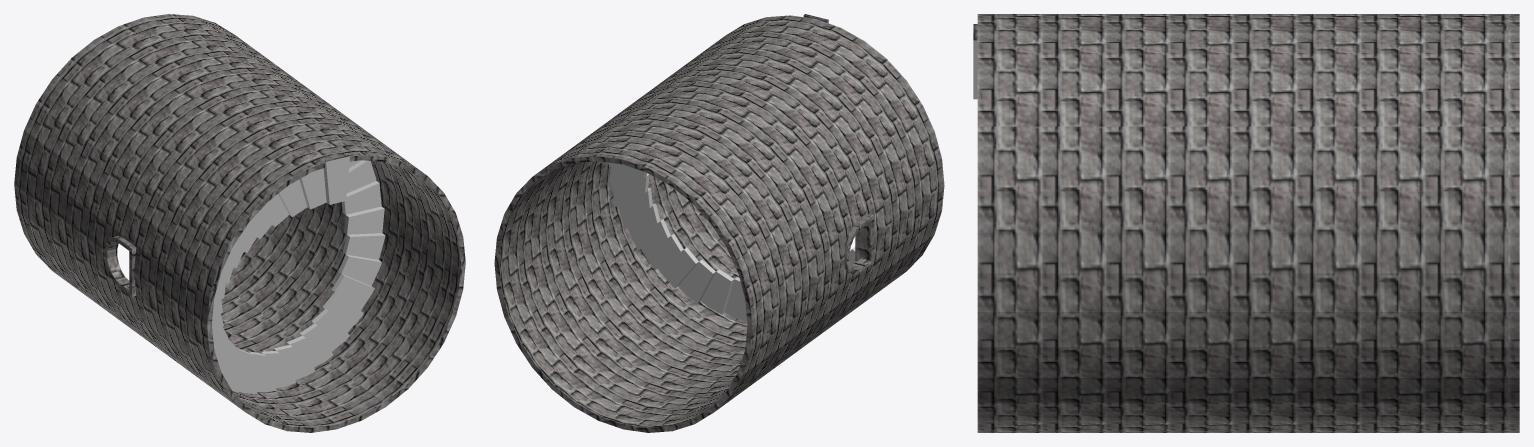
Rendered from WindowFlame_08.fbx.
The picture shows the model from 3 angles, left to right: view 1: azimuth 30°, elevation 25°; view 2: azimuth 150°, elevation 25°; view 3: azimuth 270°, elevation 25°; orthographic projection. The views are drawn at different scales.
Visible parts, largest first — view 1: Cylinder.001; view 2: Cylinder.001; view 3: Cylinder.001.
Part boxes in pixels (<box>): Cylinder.001: <box>14,14,465,432</box>; Cylinder.001: <box>494,14,944,432</box>; Cylinder.001: <box>973,14,1519,432</box>.
Size of the model in its own units: 938 by 932 by 1210.
